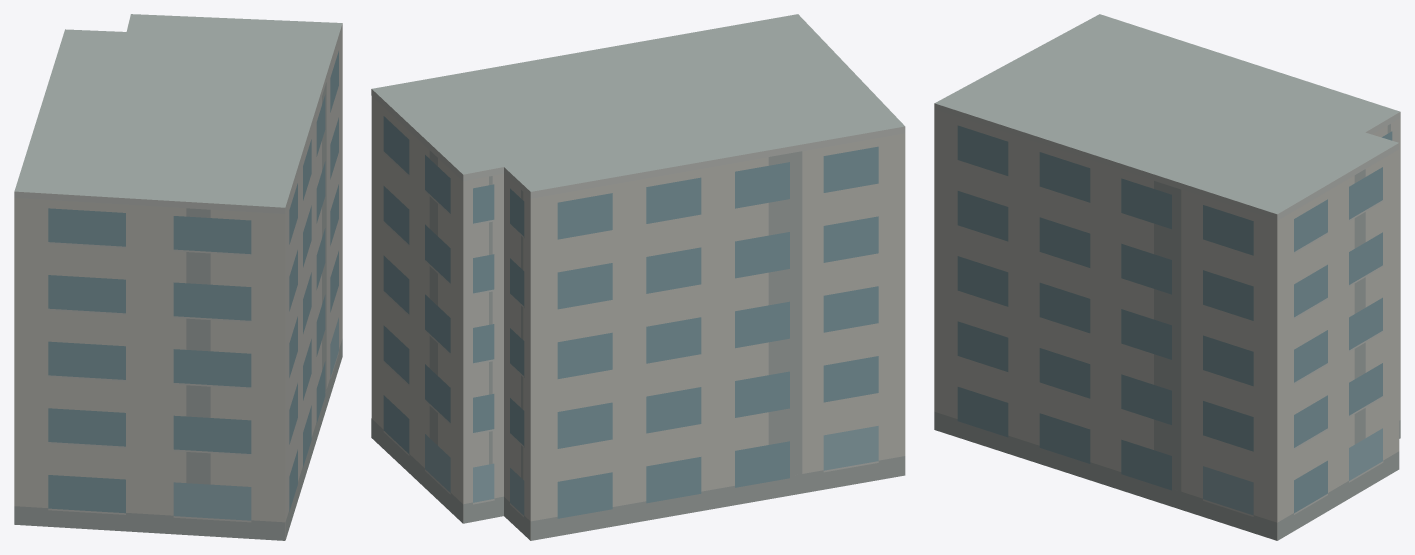
The model's file is survey-upis-33042873.glb.
3 renders of one model, left to right at view 1: azimuth 30°, elevation 25°; view 2: azimuth 150°, elevation 25°; view 3: azimuth 270°, elevation 25°, orthographic. The views are drawn at different scales.
Visible parts, largest first — view 1: survey-upis-33042873.tmp; view 2: survey-upis-33042873.tmp; view 3: survey-upis-33042873.tmp.
Boxes of the visible parts, x1=… form: survey-upis-33042873.tmp: x1=14, y1=14, x2=342, y2=540; survey-upis-33042873.tmp: x1=371, y1=14, x2=905, y2=540; survey-upis-33042873.tmp: x1=934, y1=14, x2=1400, y2=540.
Bounding box in the file's own units: 16.59 × 12.6 × 16.31.
